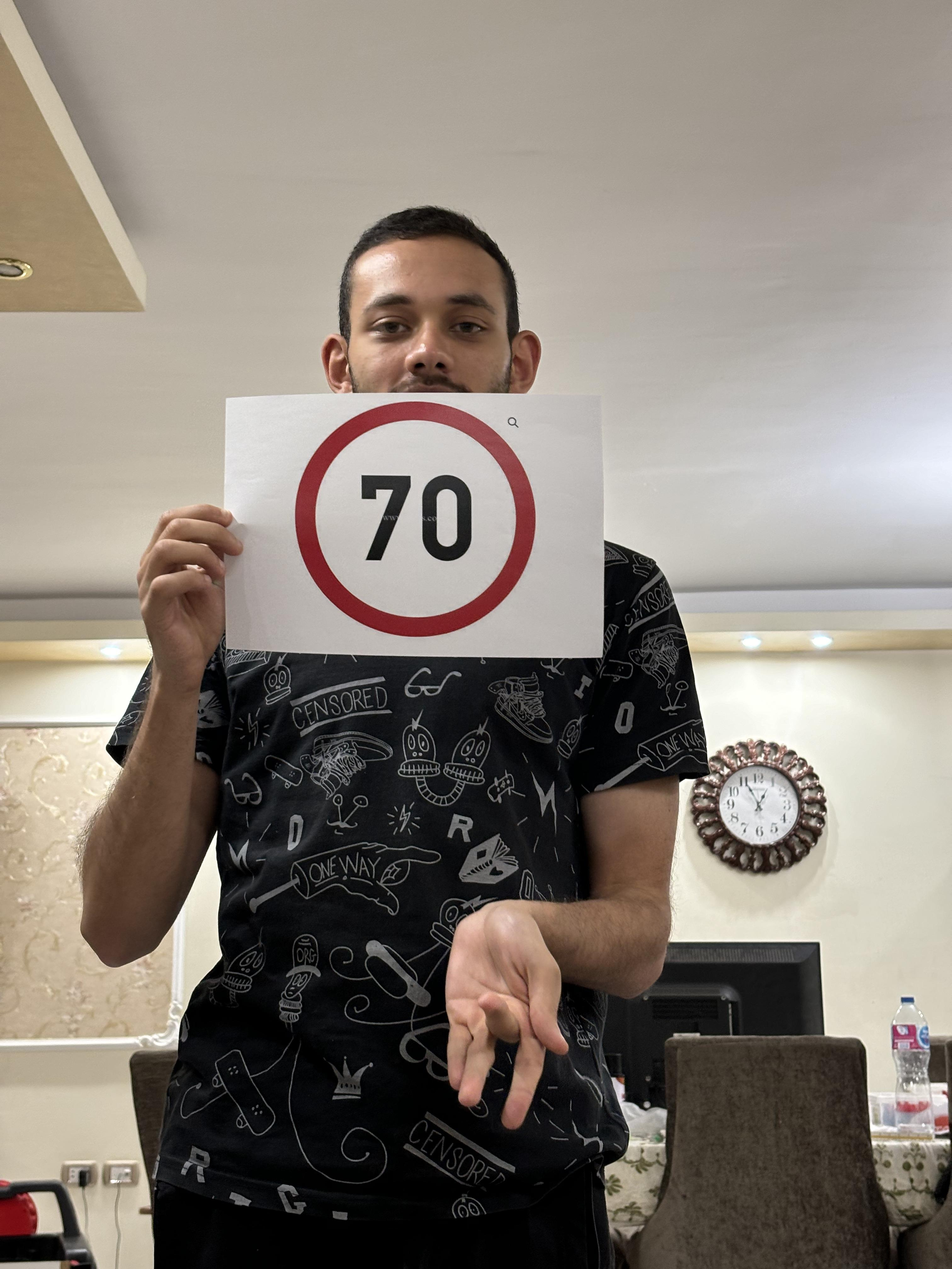70-Speed: (289, 394, 545, 636)
